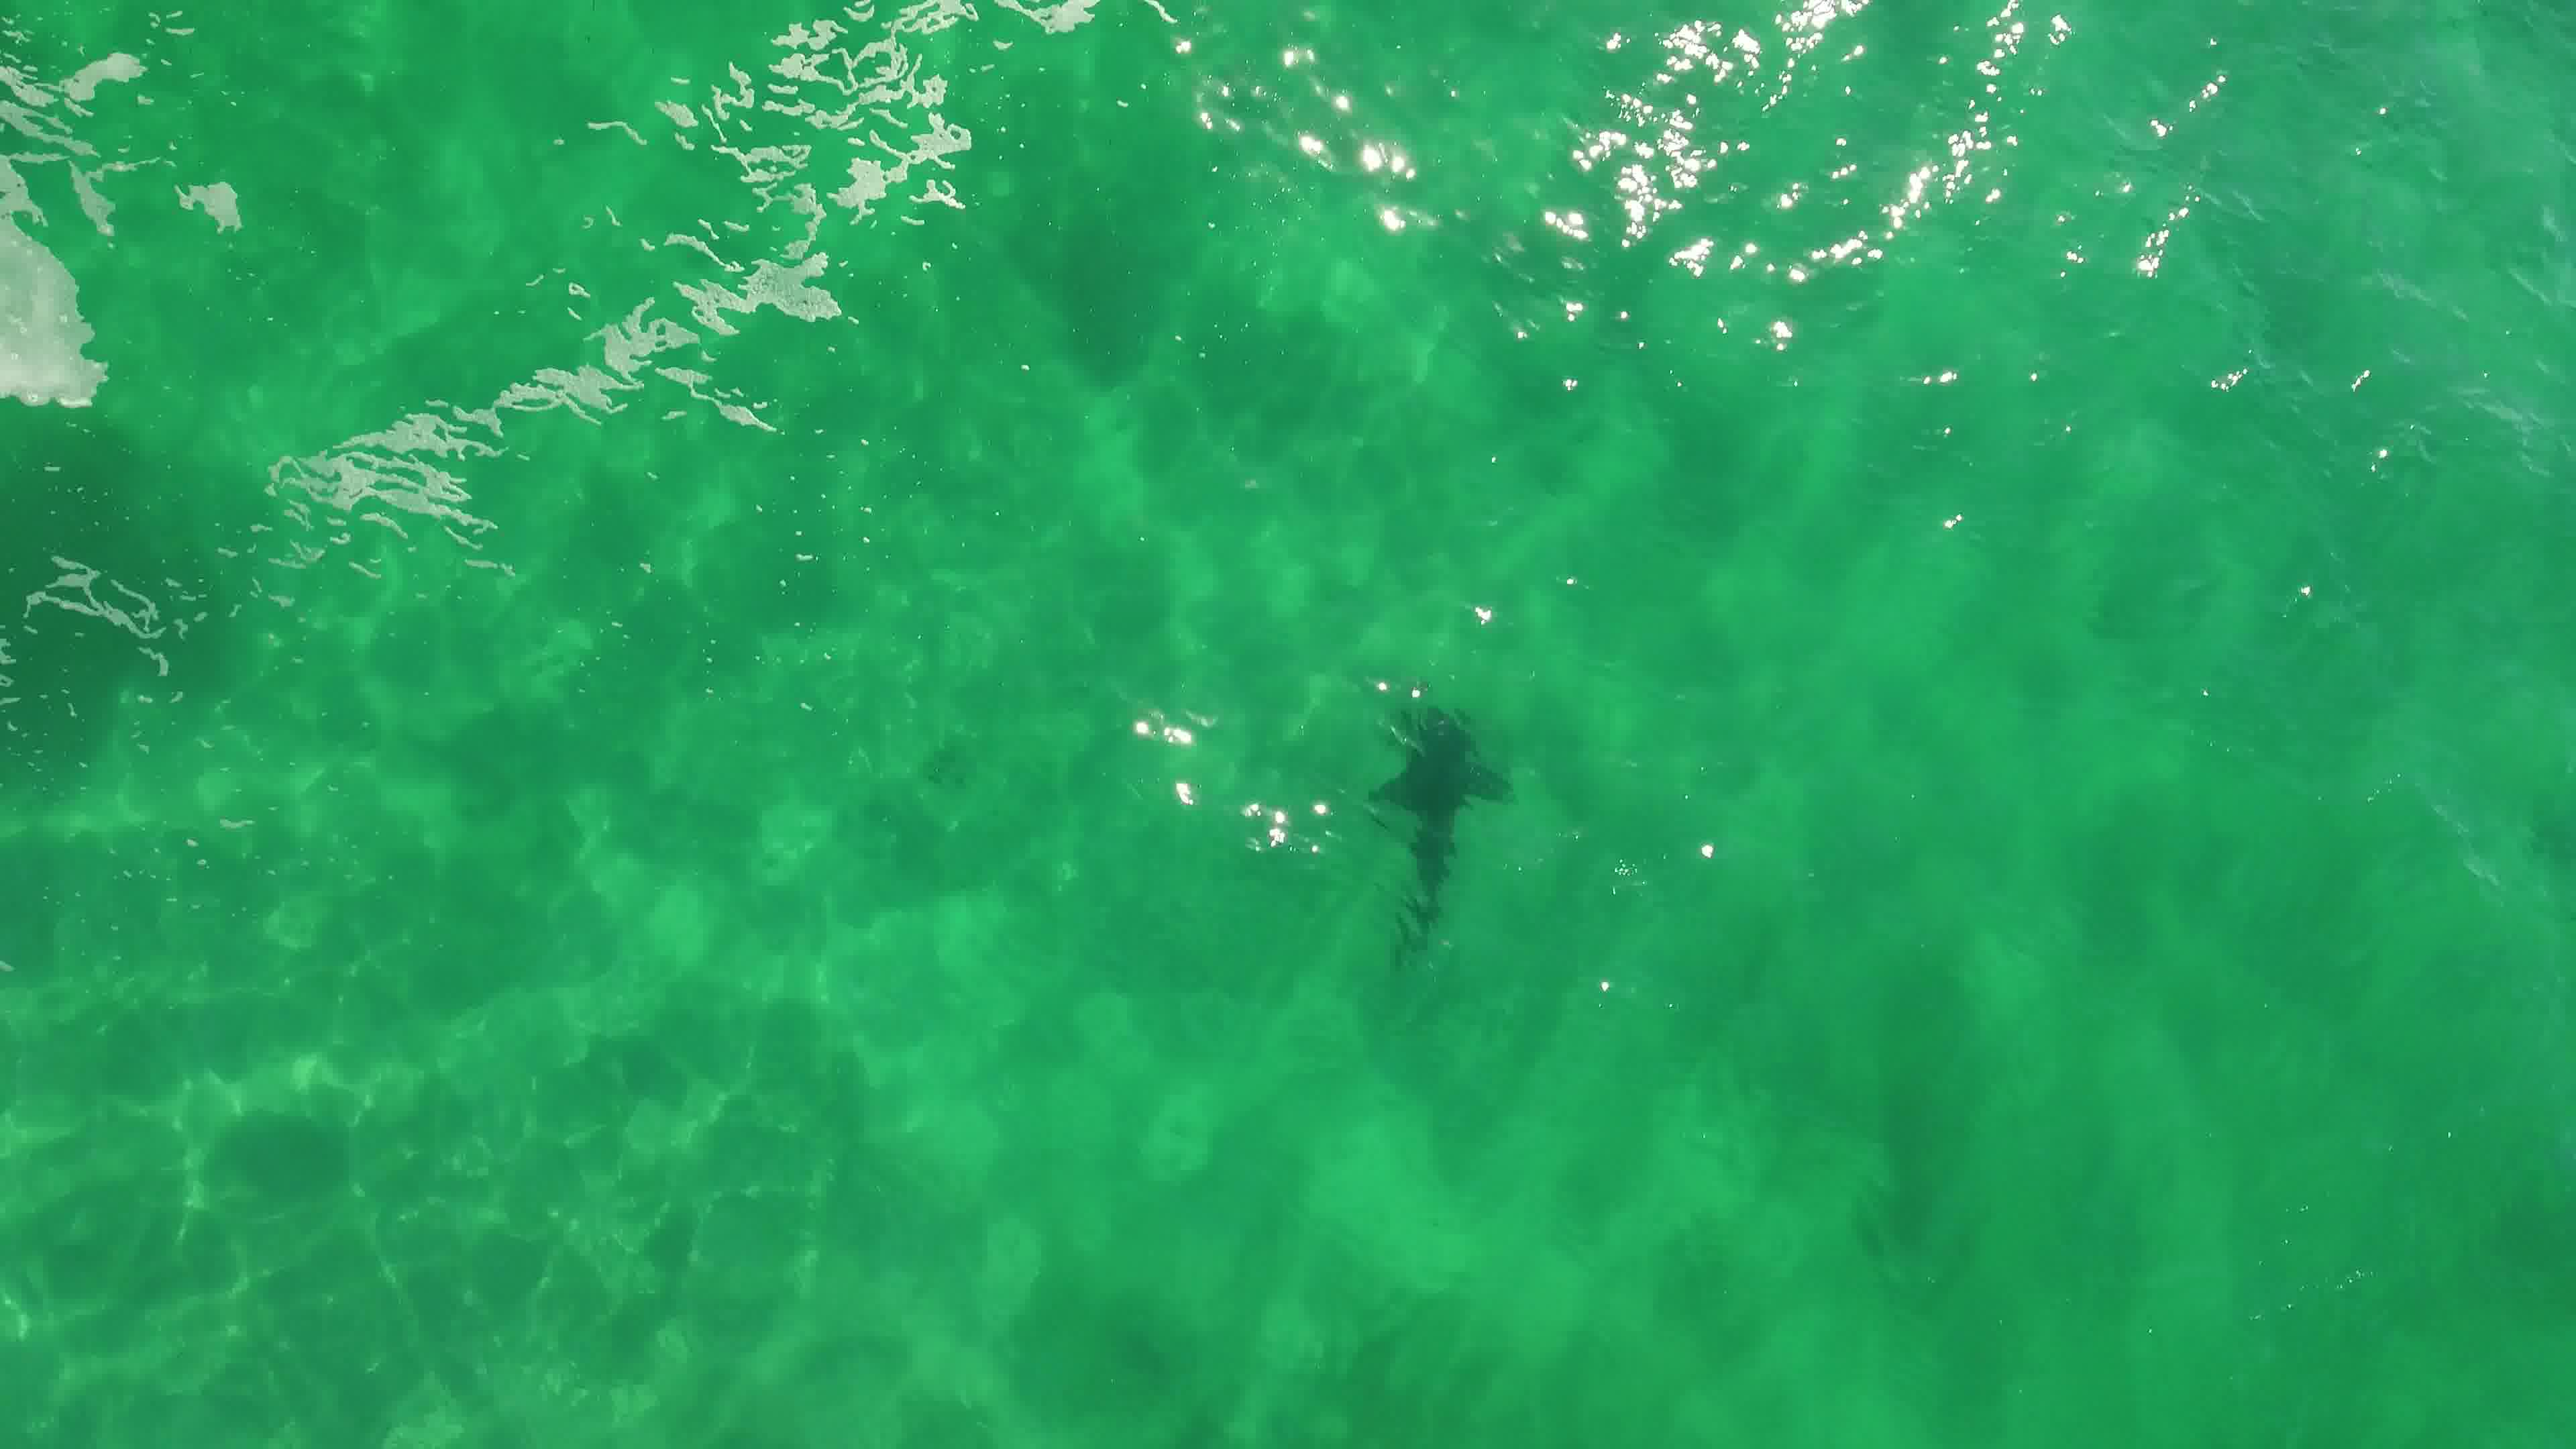shark: (1355, 699, 1518, 968)
